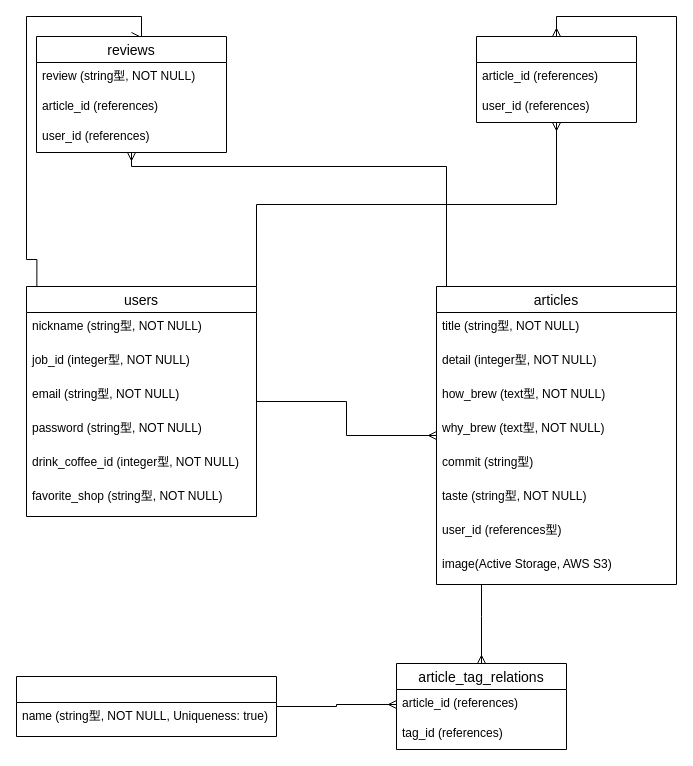
This 693x766 diagram has some shape labels left out. Here are the shapes that lost their labels. From the top down, the box of each, then its label:
(476, 36, 636, 122): favorites
(16, 676, 276, 736): tags
